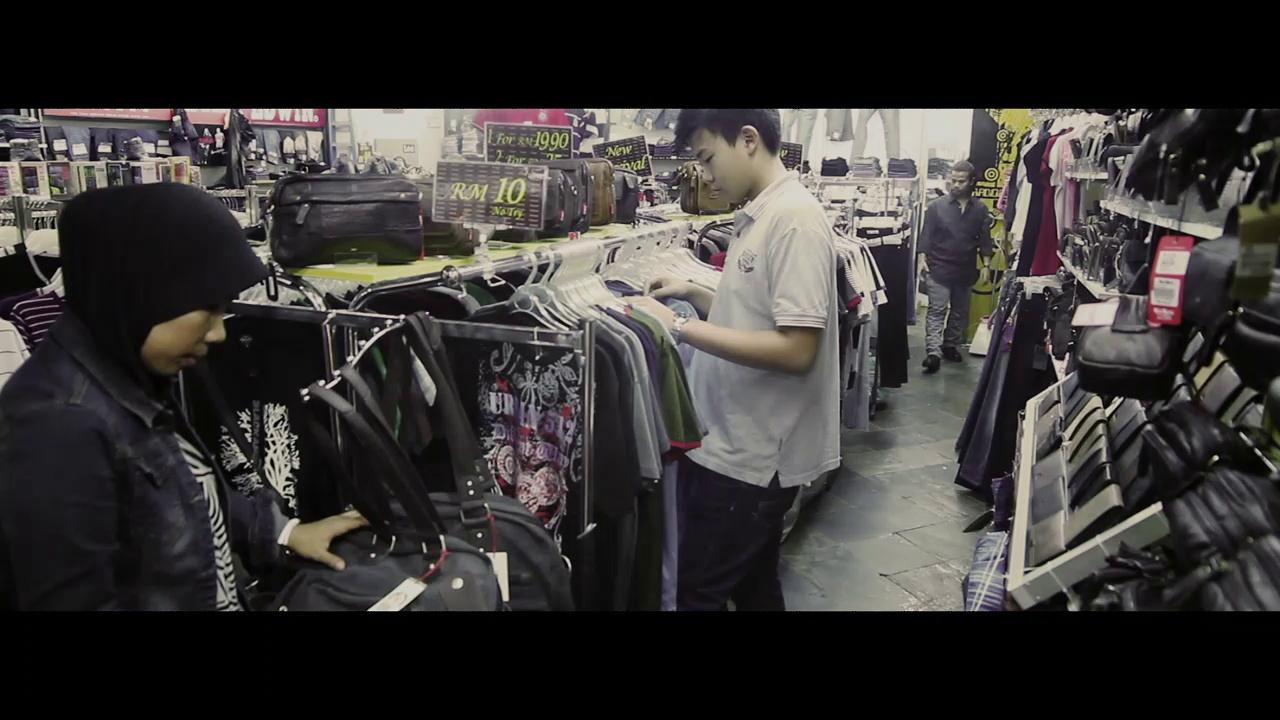Regular: (0, 152, 493, 615), (562, 107, 930, 614), (887, 162, 1003, 391)
